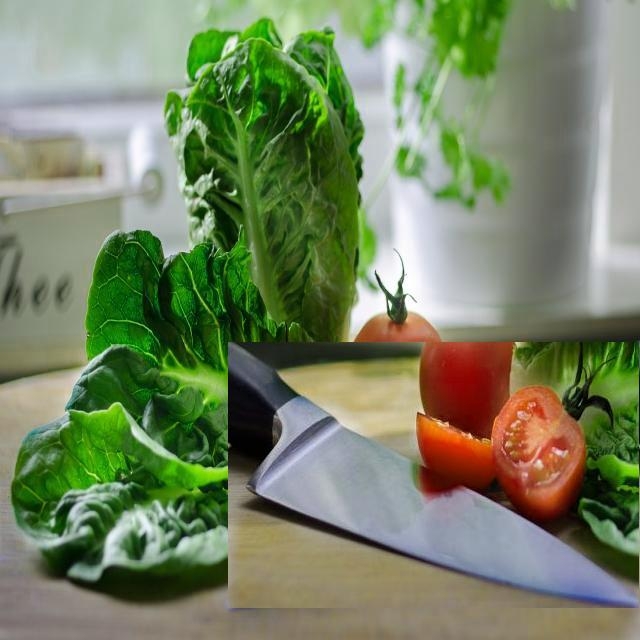Knife: (229, 343, 639, 608)
